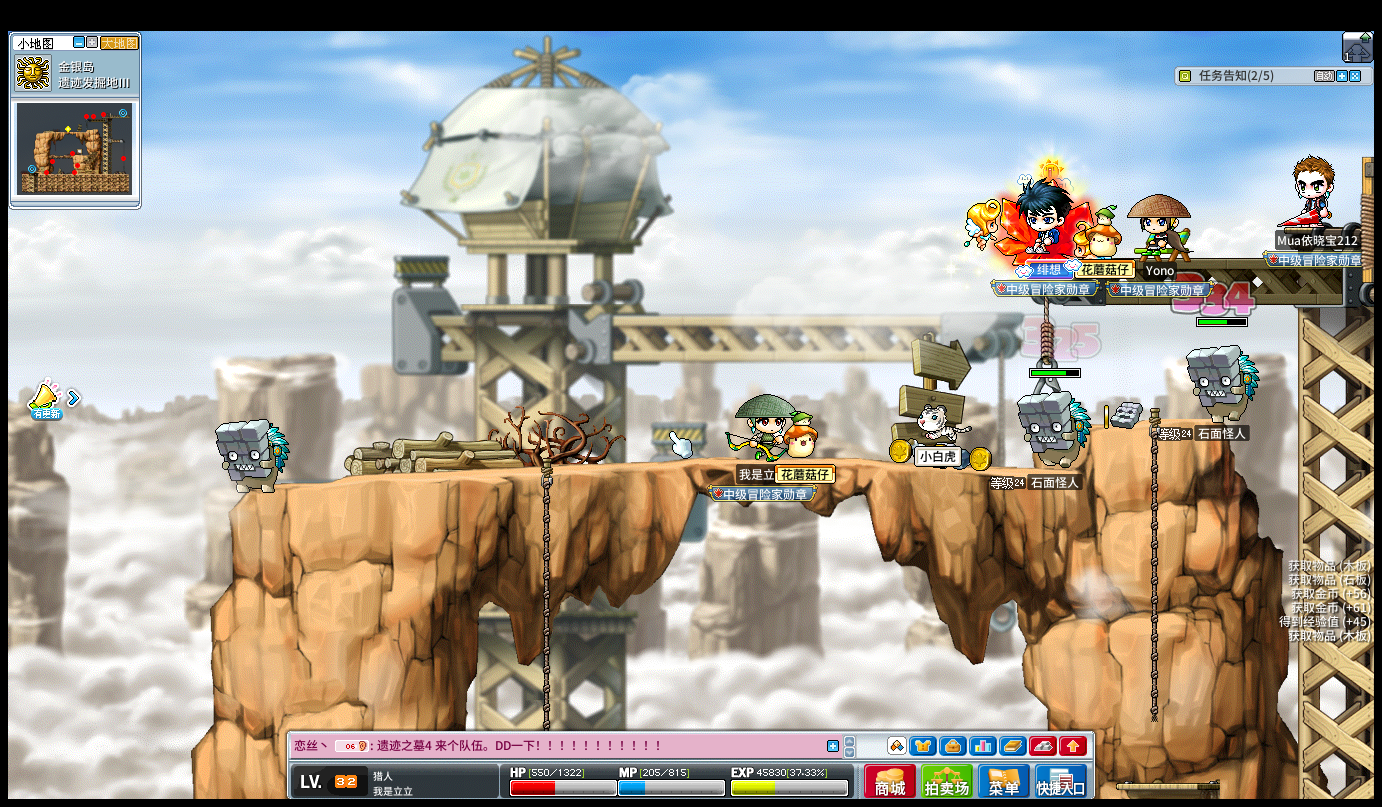floor: (243, 452, 1125, 484)
monster: (214, 418, 290, 496), (1186, 343, 1259, 421), (1017, 390, 1089, 467)
rope: (1146, 408, 1160, 722), (539, 454, 551, 731), (540, 451, 552, 672)
